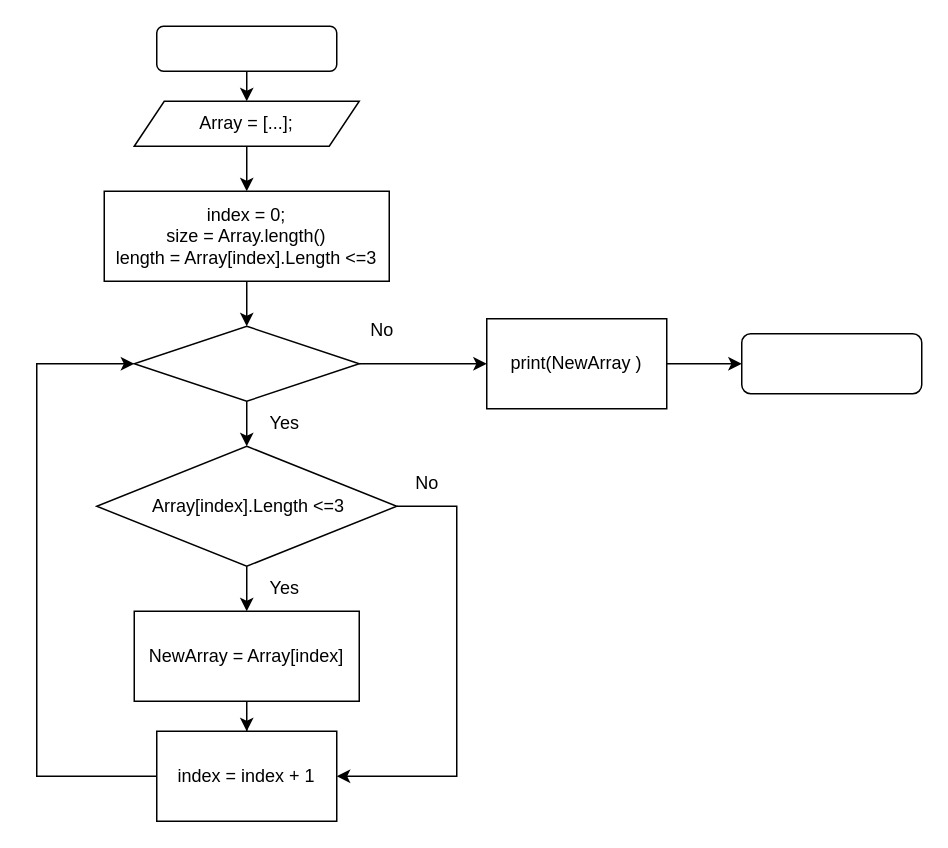
Some shapes in this 948 by 848 pixel diagram are drawn without their labels. Each missing label, with the box of its shape:
begin: (155, 25, 337, 71)
end: (740, 332, 922, 394)
index < size: (133, 325, 359, 401)
